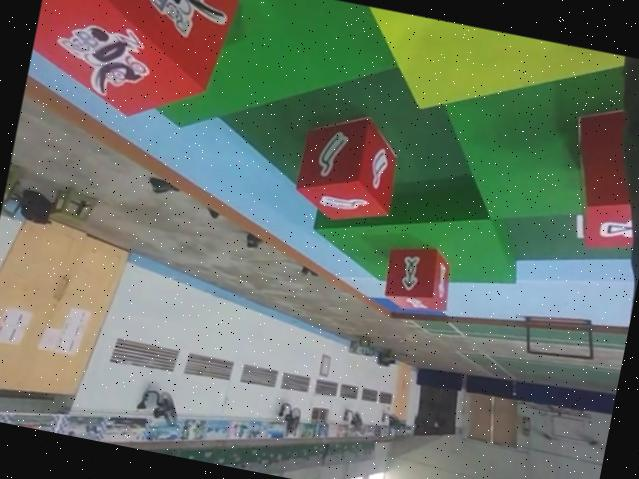R1: (22, 0, 246, 134)
R2 Real: (287, 102, 405, 231), (378, 237, 460, 318)
